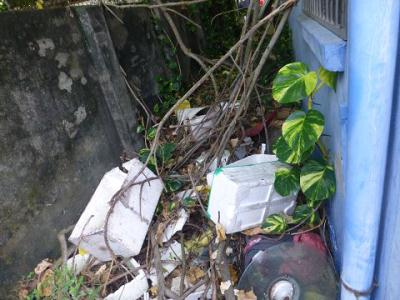styrofoam: (67, 156, 166, 264), (206, 161, 300, 234), (64, 251, 149, 299)
